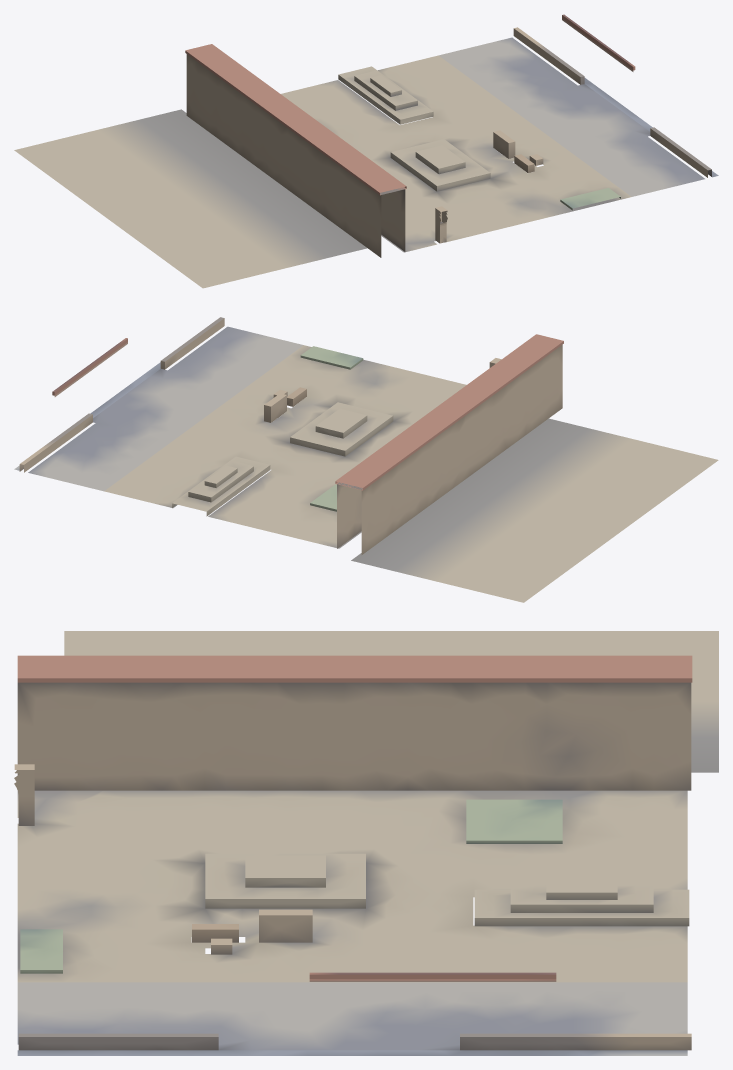
3 renders of one model, top to bottom at view 1: azimuth 30°, elevation 25°; view 2: azimuth 150°, elevation 25°; view 3: azimuth 270°, elevation 25°, orthographic. The views are drawn at different scales.
Parts seen in each view (by area): view 1: t; view 2: t; view 3: t.
Part boxes in pixels (left/top/right/bottom): t: left=14, top=14, right=718, bottom=288; t: left=14, top=317, right=718, bottom=602; t: left=14, top=631, right=718, bottom=1055.
Size of the model in its own units: 75.1 by 9.35 by 52.59.
